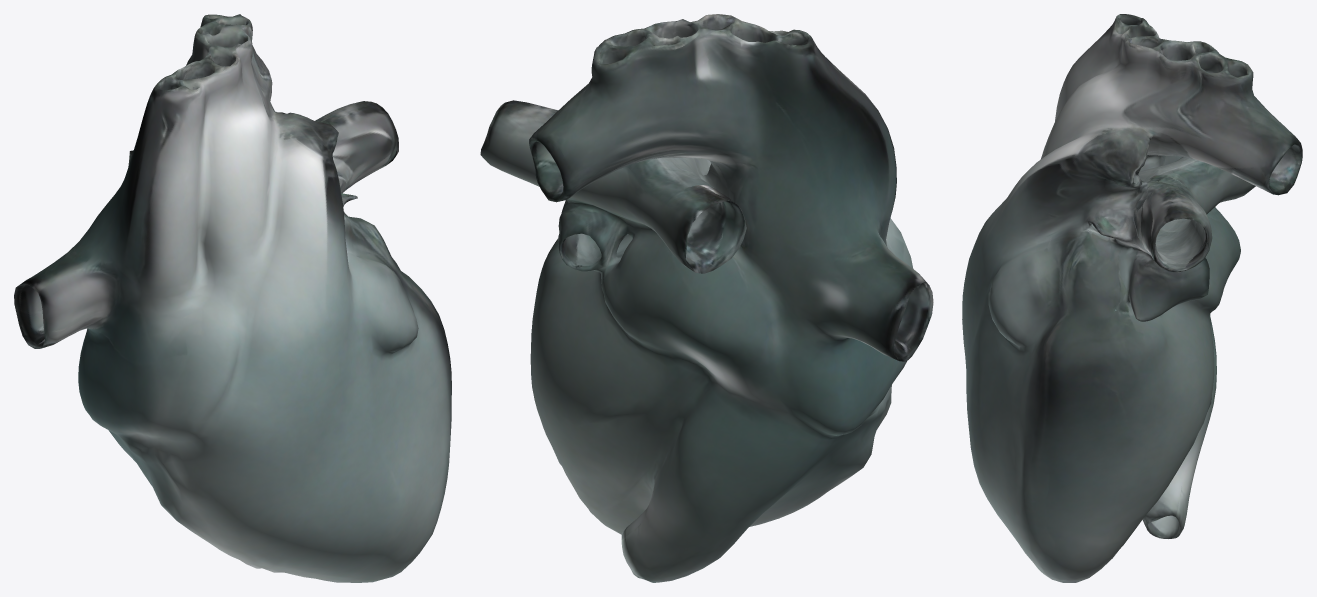
File: heart.glb
3 renders of one model, left to right at view 1: azimuth 30°, elevation 25°; view 2: azimuth 150°, elevation 25°; view 3: azimuth 270°, elevation 25°, orthographic. The views are drawn at different scales.
Size of the model in its own units: 1.5 by 1.99 by 1.25.
1 material, 1 textured.
